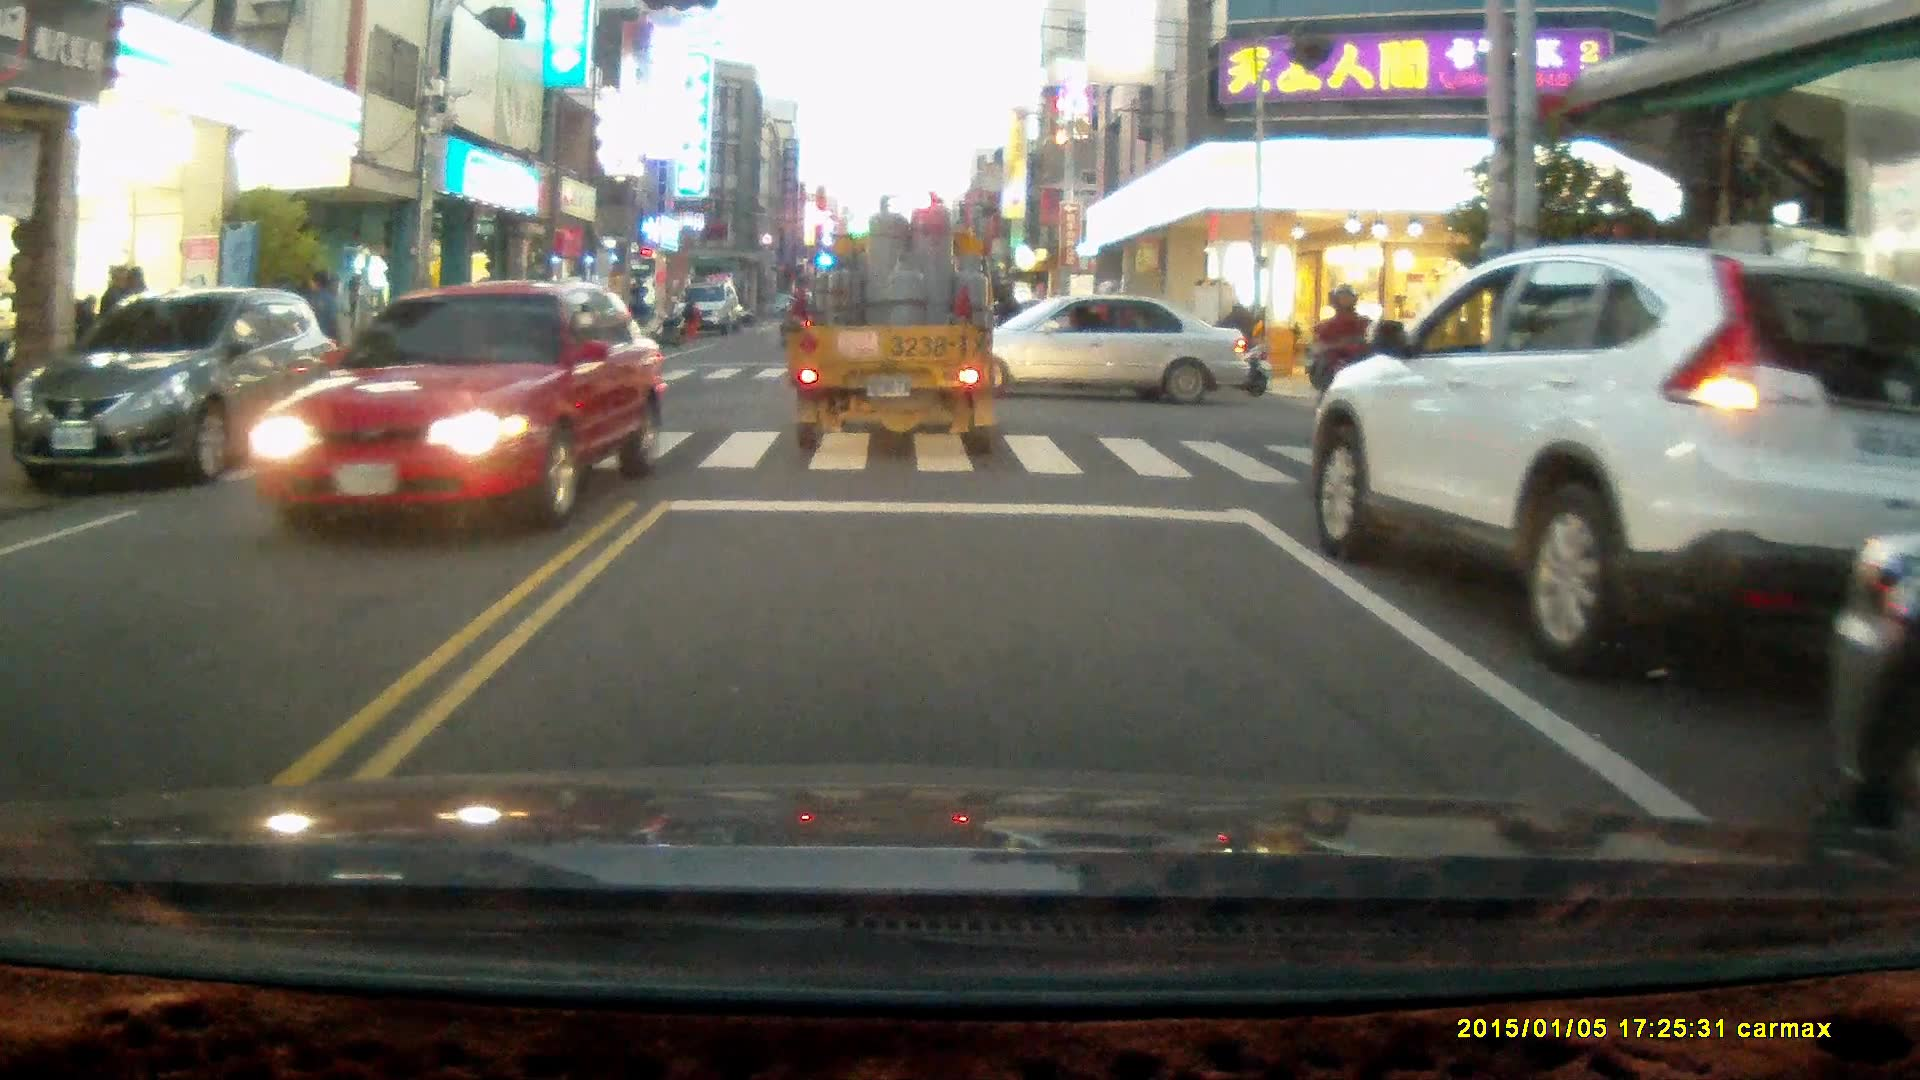rider: (1303, 279, 1391, 460), (1178, 289, 1270, 396)
vehicle: (1305, 243, 1920, 685), (243, 280, 679, 533), (14, 287, 343, 493), (788, 192, 1005, 461), (926, 294, 1250, 410), (674, 284, 741, 336)
